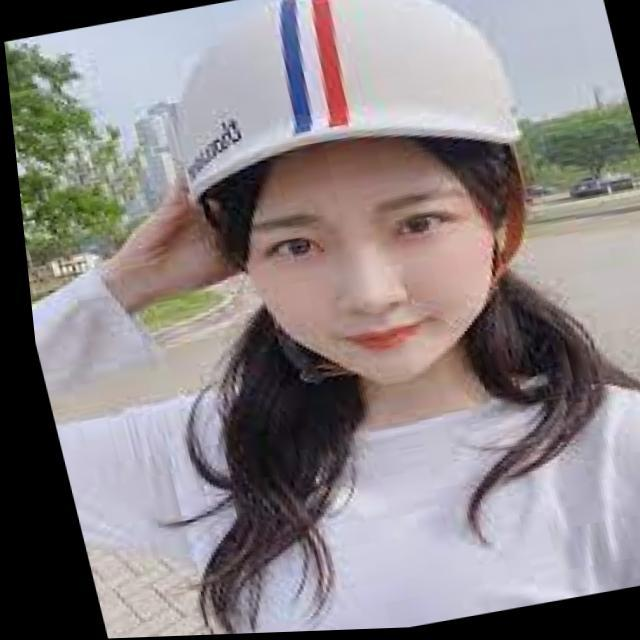Helmet: (160, 0, 524, 393)
